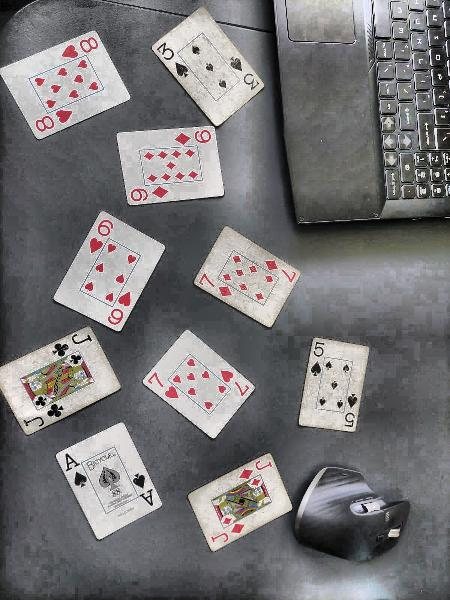3P: (155, 41, 190, 80), (227, 54, 261, 93)
5P: (309, 340, 326, 378), (343, 392, 360, 428)
6C: (107, 290, 133, 326), (89, 219, 114, 254)
7C: (147, 370, 180, 402), (220, 369, 250, 398)
7D: (264, 258, 298, 285), (198, 272, 233, 298)
8C: (33, 107, 74, 136), (60, 36, 100, 60)
9D: (130, 185, 170, 205), (173, 128, 213, 147)
AP: (63, 452, 89, 490), (132, 471, 157, 508)
JD: (209, 522, 245, 545), (238, 459, 273, 481)
JT: (22, 403, 66, 432), (51, 332, 94, 359)
